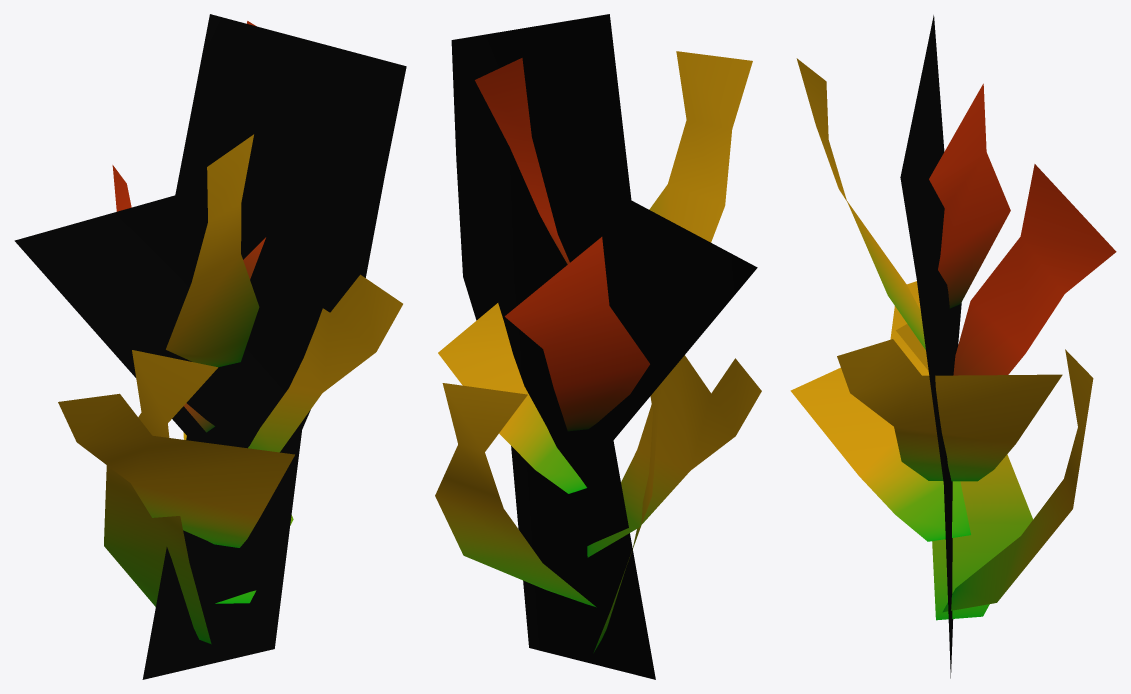
File: Var4Hi37.fbx
3 views of the same model, side by side, from view 1: azimuth 30°, elevation 25°; view 2: azimuth 150°, elevation 25°; view 3: azimuth 270°, elevation 25° (orthographic). The views are drawn at different scales.
Parts seen in each view (by area): view 1: bend1; view 2: bend1; view 3: bend1.
Part boxes in pixels (x1,y1,x2,y2): bend1: (14, 14, 406, 679); bend1: (435, 14, 761, 679); bend1: (790, 15, 1116, 678).
Bounding box in the file's own units: 1.3 × 2.33 × 1.09.
